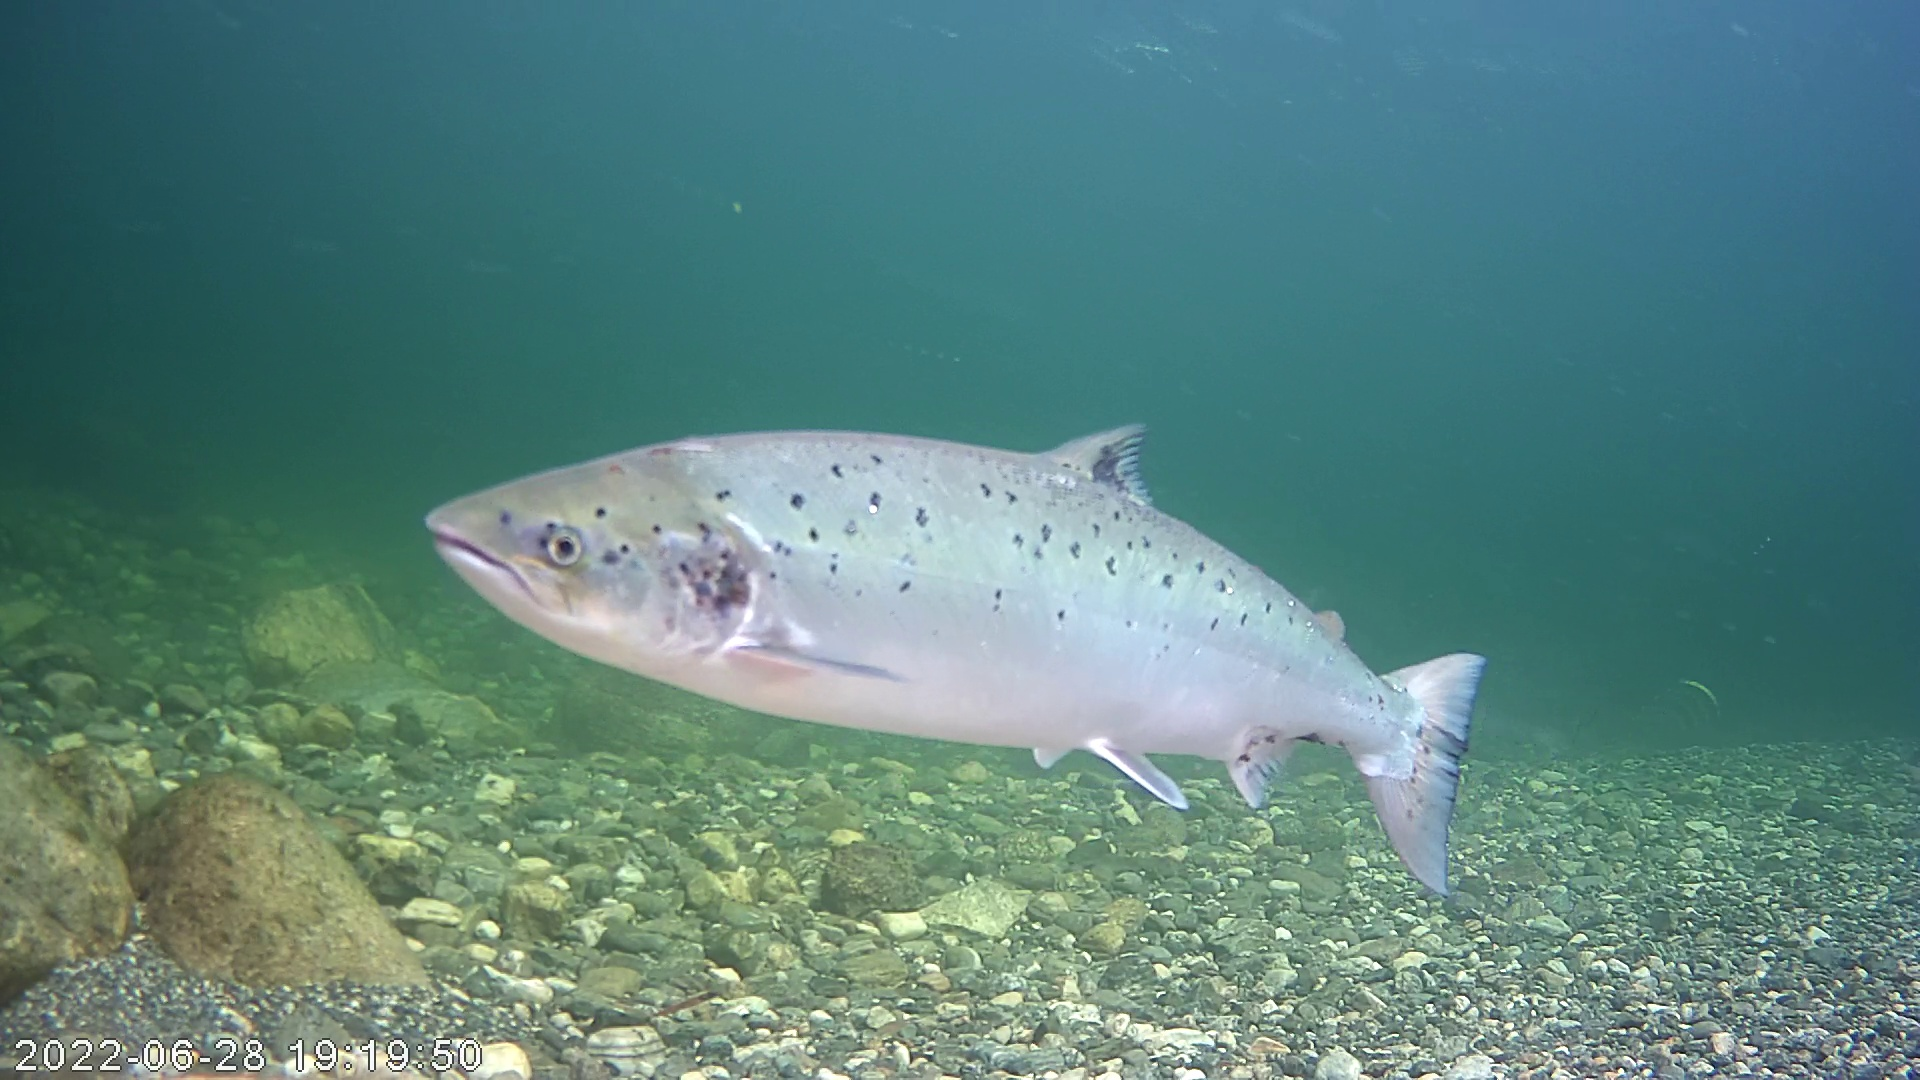salmon: (404, 276, 1485, 887)
